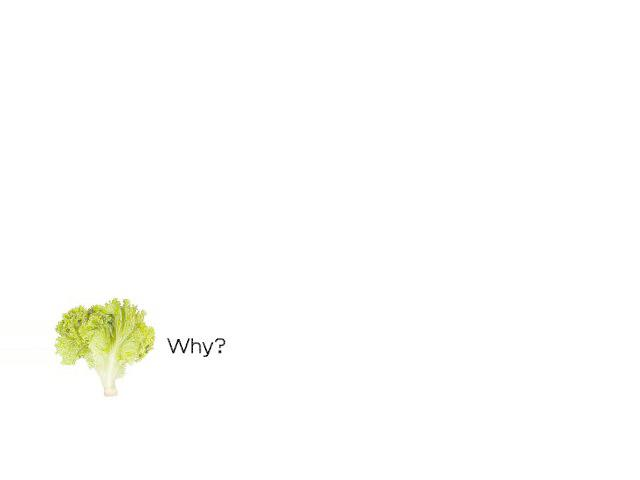lettuce: (50, 289, 212, 404)
